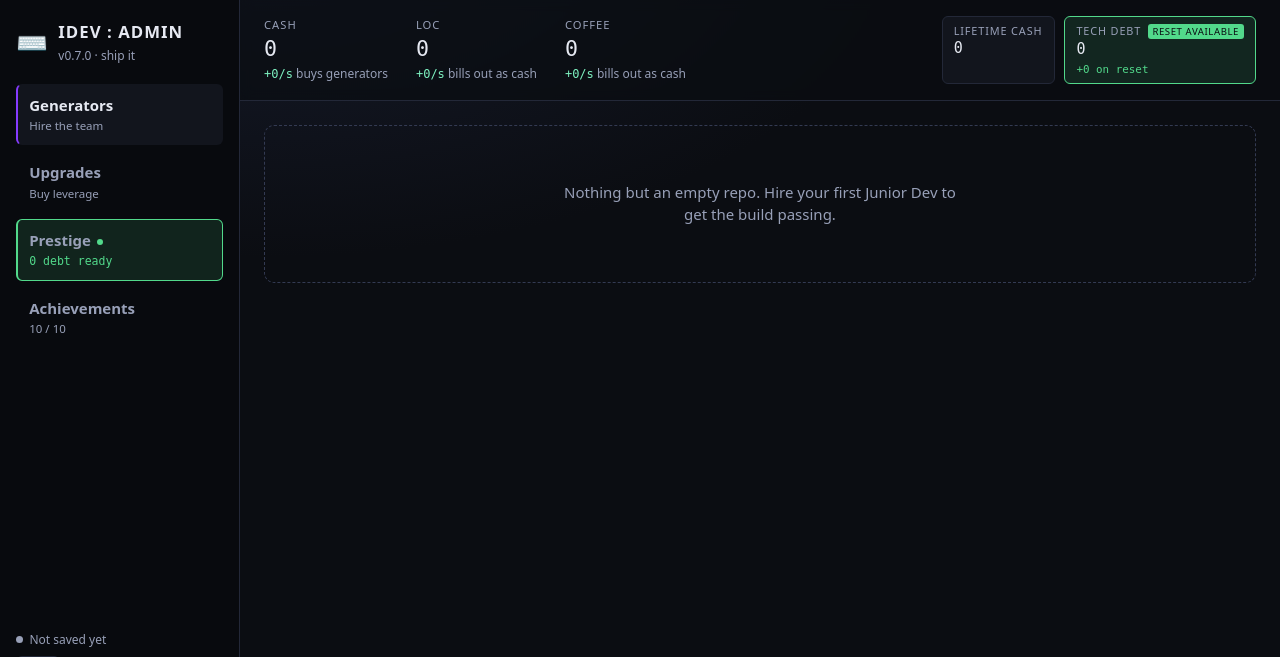
App – prestige formula is not a hardcoded literal › renders the exponent and scale the payout actually uses
Click the button "Prestige 0 debt ready": (120, 250) [16,219,223,280]
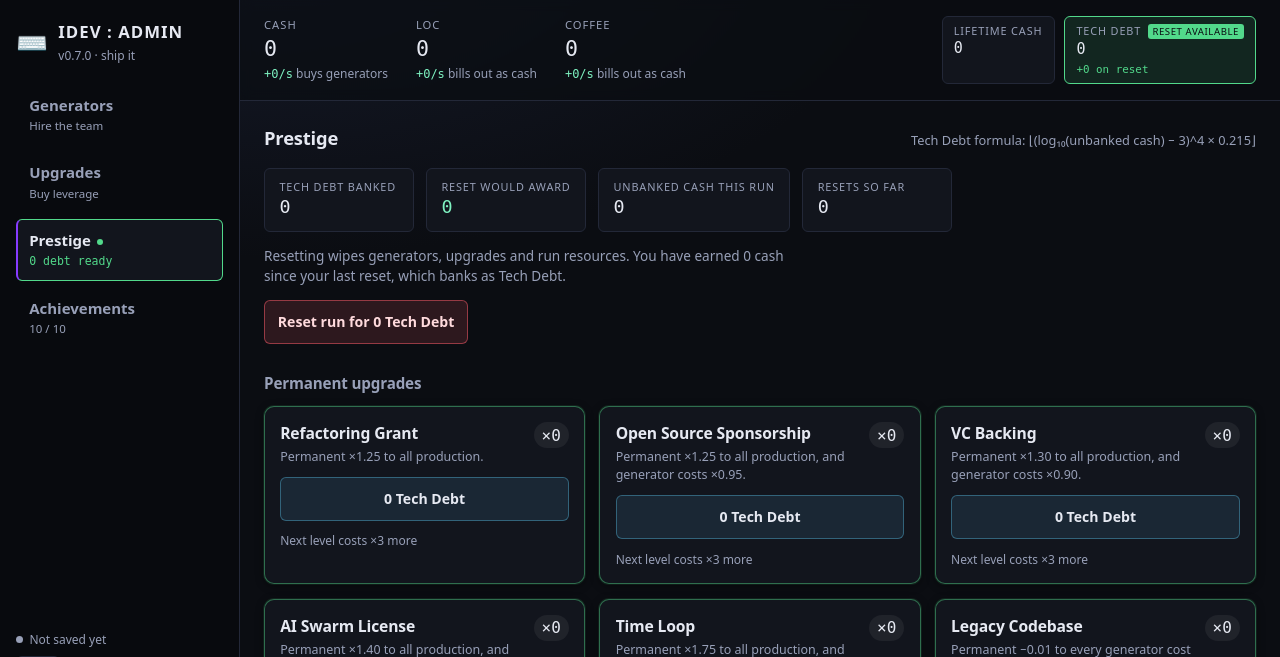
Now the text with test id "prestige-formula" shows "^4", box [911,131,1256,150]
Now the text with test id "prestige-formula" shows "0.215", box [1218,131,1251,149]
